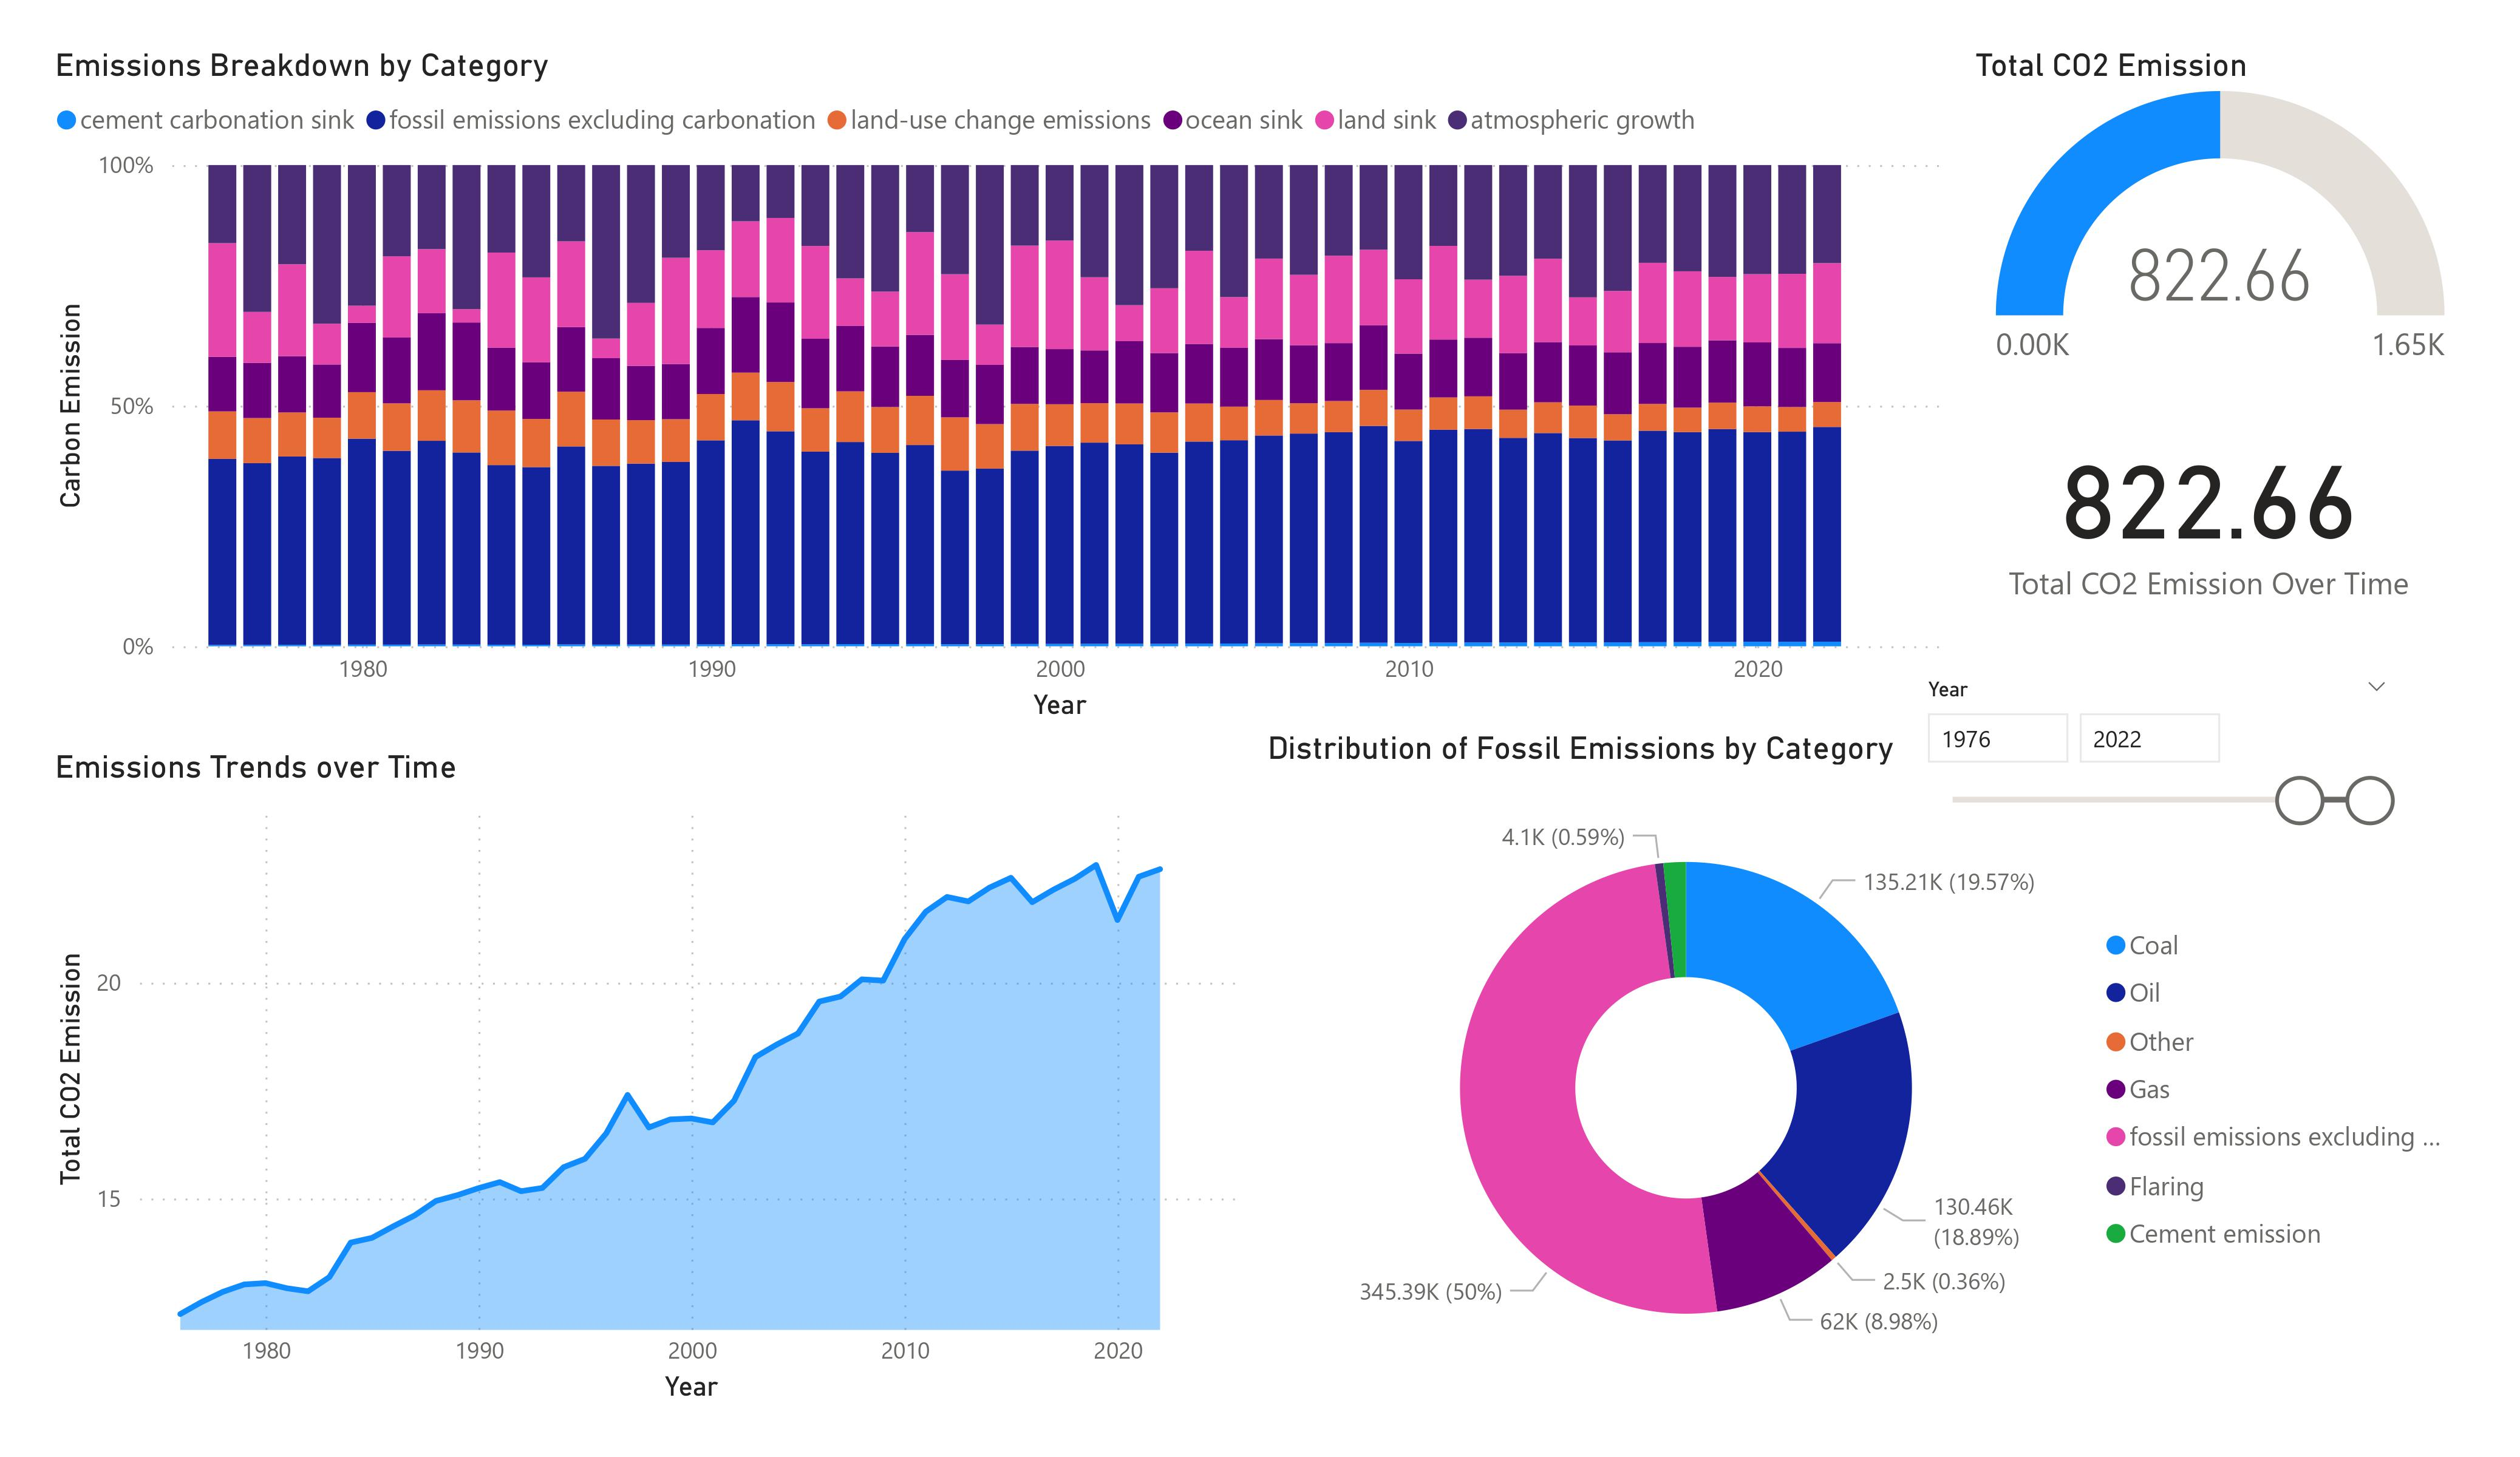

Layout of this report page (visuals, bound fields, positions):
{"tool":"powerbi","page":{"name":"Dashboard","canvas":[1280,720],"ordinal":1},"visuals":[{"type":"donutChart","title":"Distribution of Fossil Emissions by Category","fields":{"Y":["Sum(Fossil Emissions by Category.Coal)","Sum(Fossil Emissions by Category.Oil)","Sum(Fossil Emissions by Category.Other)","Sum(Fossil Emissions by Category.Gas)","Sum(Fossil Emissions by Category.fossil emissions excluding carbonation)","Sum(Fossil Emissions by Category.Flaring)","Sum(Fossil Emissions by Category.Cement emission)"]},"box":[638.9,360,641.4,360],"z":0},{"type":"hundredPercentStackedColumnChart","title":"Emissions Breakdown by Category","fields":{"Y":["Sum(Historical Budget.cement carbonation sink)","Sum(Historical Budget.fossil emissions excluding carbonation)","Sum(Historical Budget.land-use change emissions)","Sum(Historical Budget.ocean sink)","Sum(Historical Budget.land sink)","Sum(Historical Budget.atmospheric growth)"],"Category":["Historical Budget.Year"]},"box":[0,0,1012.7,359.5],"z":1000},{"type":"gauge","fields":{"Y":["Sum(Historical Budget.Total CO2 Emission)"]},"box":[1012.4,0,267.8,179.4],"z":2000},{"type":"slicer","fields":{"Values":["Historical Budget.Year"]},"box":[978.8,327.5,267.5,101.2],"z":3000},{"type":"card","fields":{"Values":["Key Features.Total CO2 Emission Over Time"]},"box":[1000.1,179.4,280.1,130.2],"z":4000},{"type":"areaChart","title":"Emissions Trends over Time","fields":{"Category":["Historical Budget.Year"],"Y":["Sum(Historical Budget.Total CO2 Emission)"]},"box":[0,369.8,638.9,350.2],"z":5000}]}

Visuals, with their boxes on the page's 1280x720 design canvas (x1, y1, x2, y2). These are canvas units, not pixel positions in the 2520x1457 screenshot, which may show the page scaled, cropped or inside an application window:
"Distribution of Fossil Emissions by Category" donutChart: crop(639, 360, 1280, 720)
"Emissions Breakdown by Category" hundredPercentStackedColumnChart: crop(0, 0, 1013, 360)
gauge - Sum(Historical Budget.Total CO2 Emission): crop(1012, 0, 1280, 179)
slicer - Historical Budget.Year: crop(979, 328, 1246, 429)
card - Key Features.Total CO2 Emission Over Time: crop(1000, 179, 1280, 310)
"Emissions Trends over Time" areaChart: crop(0, 370, 639, 720)
